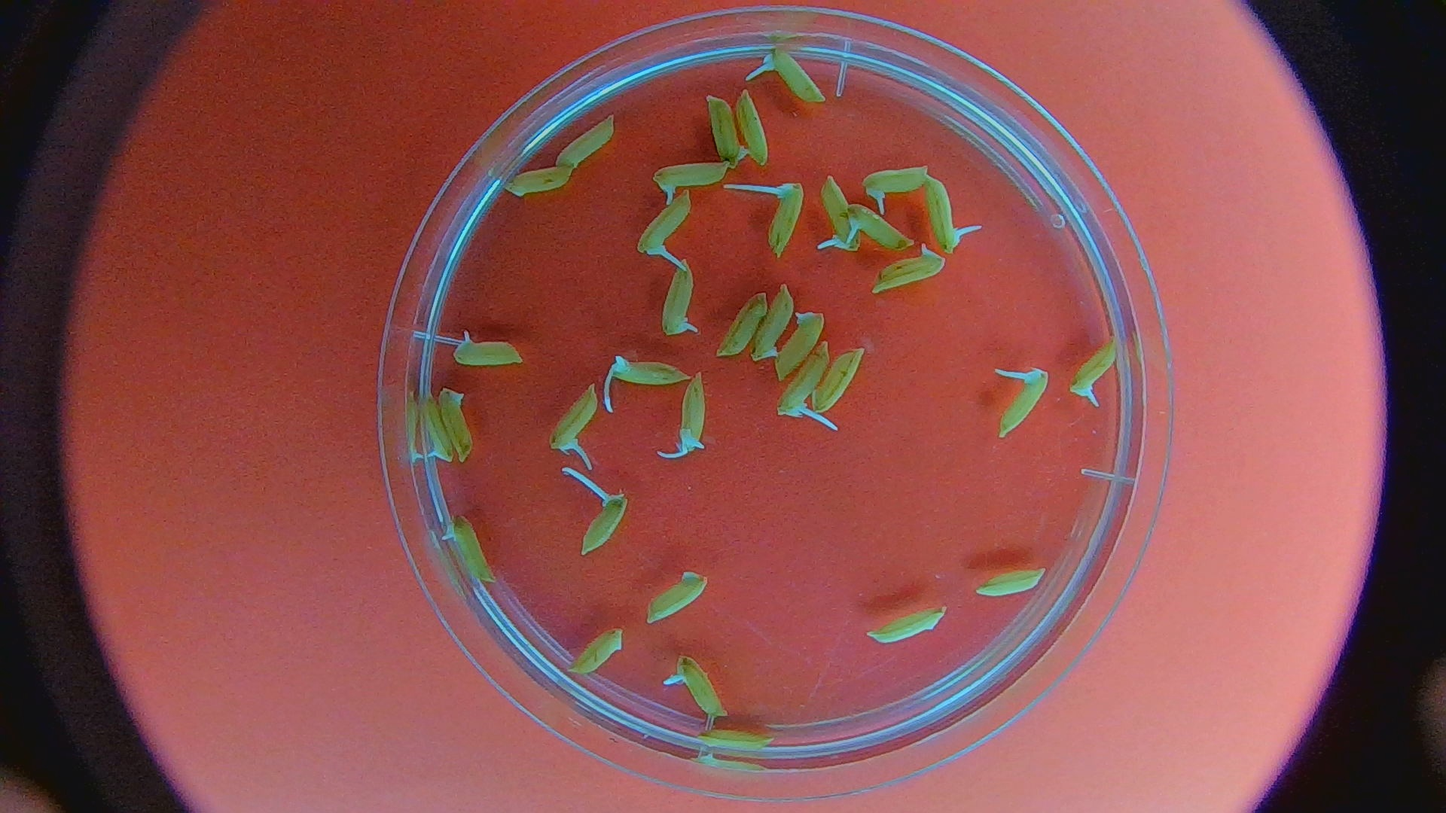no: (866, 242, 952, 296), (810, 346, 868, 415), (866, 603, 946, 647), (718, 291, 770, 357), (776, 311, 825, 379), (754, 282, 796, 360), (645, 572, 707, 624), (554, 117, 614, 169), (734, 89, 771, 167), (572, 628, 627, 678), (706, 98, 744, 166), (440, 387, 471, 463), (422, 391, 454, 461), (975, 567, 1045, 599), (503, 164, 572, 196), (694, 728, 776, 750)
yes: (778, 341, 827, 418), (636, 189, 692, 254), (671, 655, 728, 717), (844, 202, 916, 250), (999, 368, 1047, 439), (1068, 335, 1122, 397), (552, 383, 599, 450), (447, 516, 495, 580), (762, 181, 804, 252), (578, 497, 631, 553), (923, 178, 963, 252), (816, 174, 853, 254), (764, 53, 824, 102), (661, 258, 697, 339), (606, 354, 688, 388), (676, 373, 711, 452), (864, 165, 929, 207), (653, 162, 728, 195), (452, 333, 520, 367)
